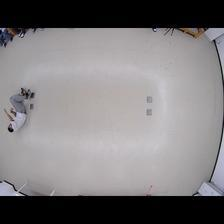fall: (2, 87, 36, 134)
